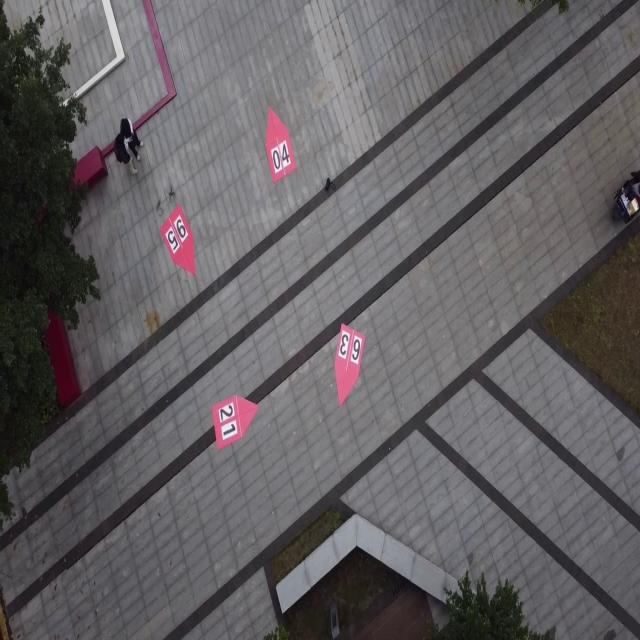-sign-: (334, 322, 366, 408), (160, 205, 197, 278), (212, 395, 258, 451), (265, 105, 297, 184)
